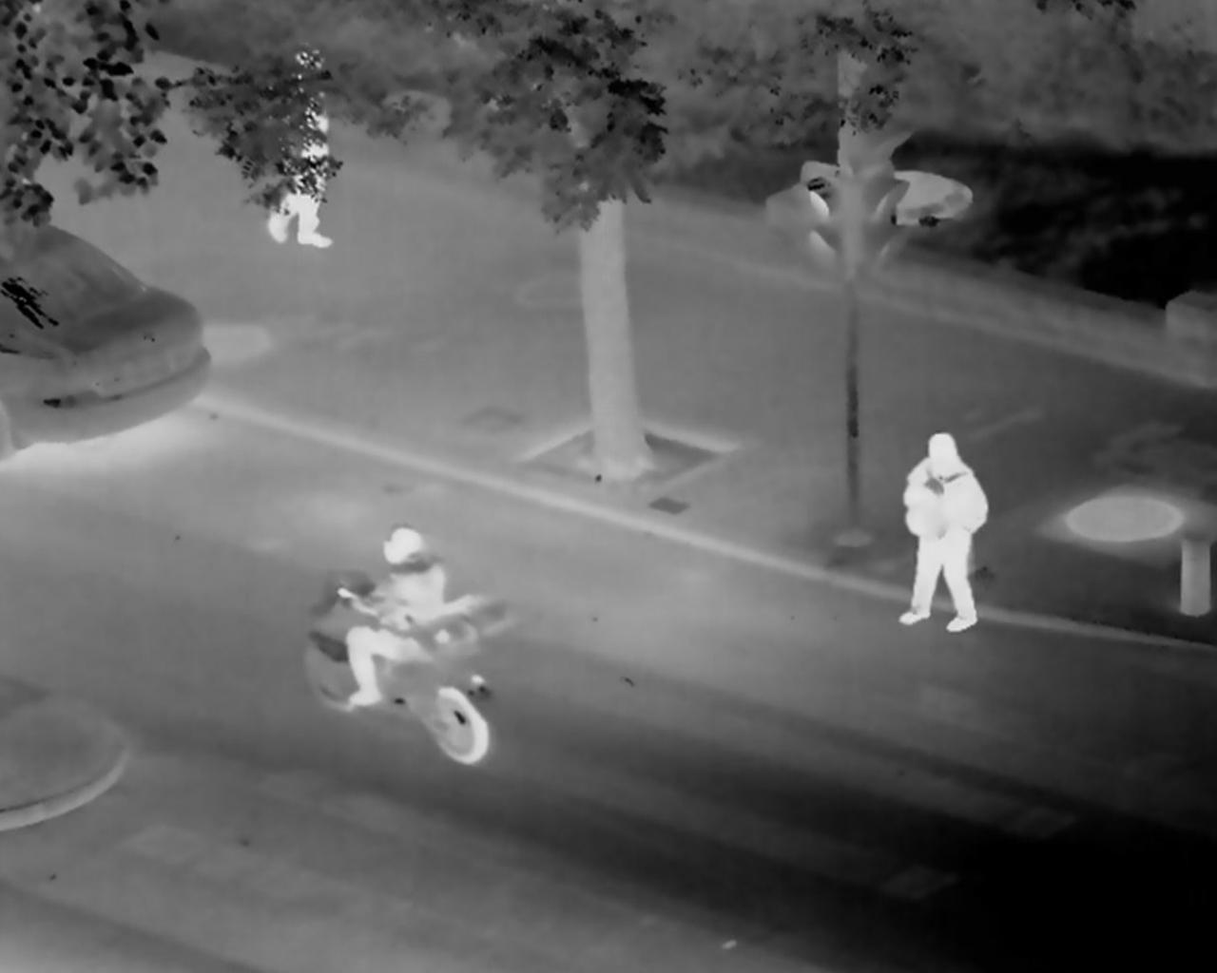person: (340, 528, 445, 712), (901, 428, 991, 634), (252, 47, 336, 251)
